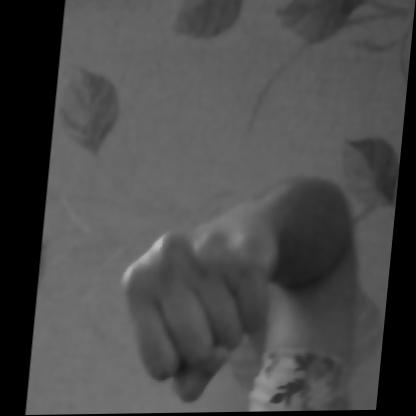fist: (101, 162, 345, 413)
